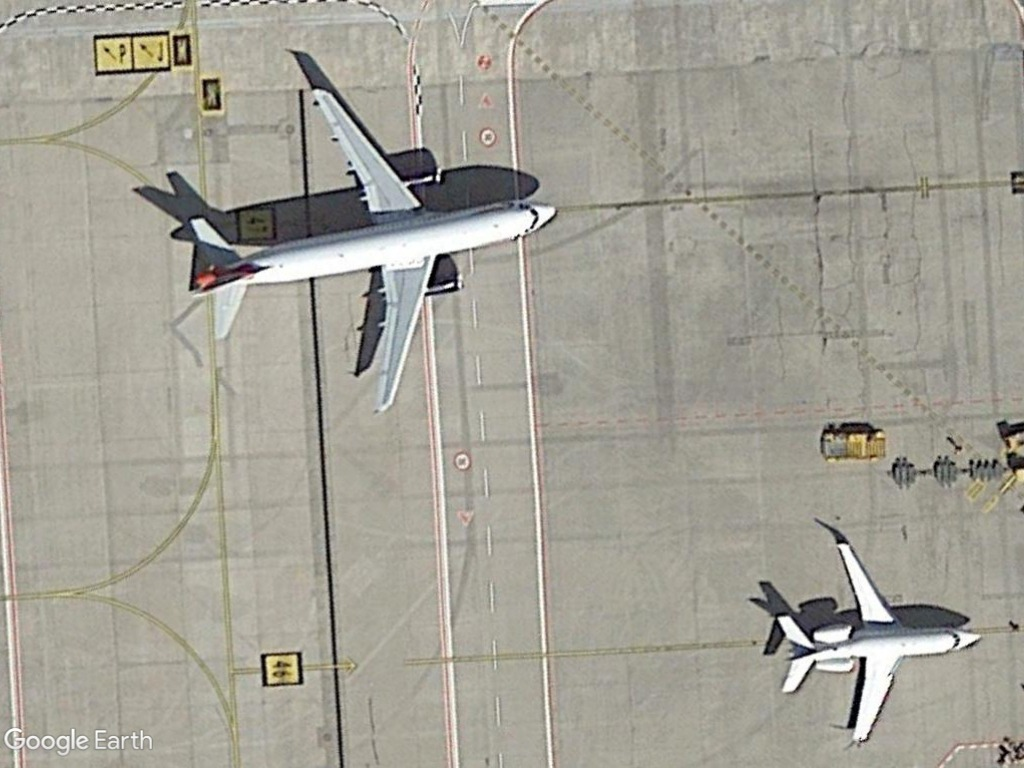airliner: (184, 83, 564, 428)
chartered: (762, 535, 989, 749)
